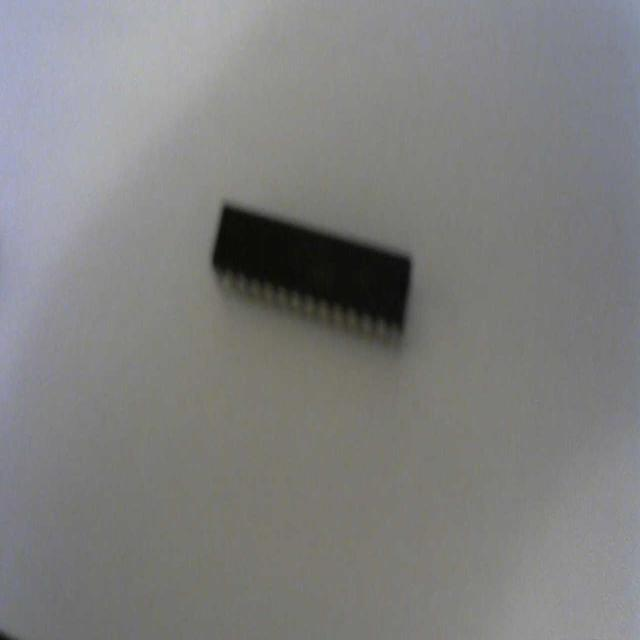atmega: (209, 196, 415, 351)
